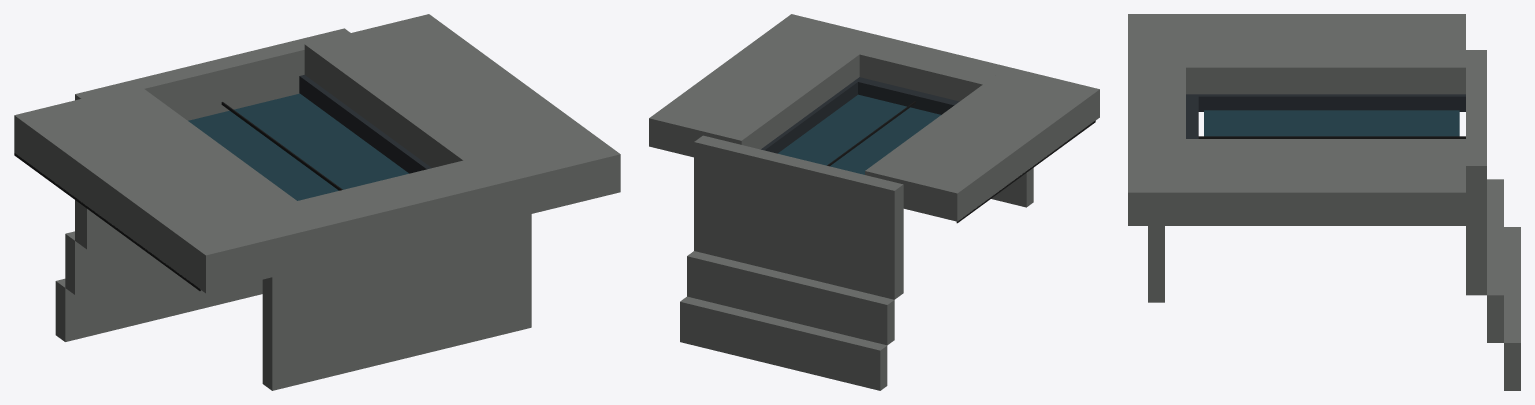
File: PanelEntrance_LOD0.obj
The picture shows the model from 3 angles, left to right: view 1: azimuth 30°, elevation 25°; view 2: azimuth 150°, elevation 25°; view 3: azimuth 270°, elevation 25°; orthographic projection. The views are drawn at different scales.
Parts seen in each view (by area): view 1: wall_left, wall_right, canopy, lintel, door, landing, step2, step1, door_frame_right, panel_seam_0, panel_seam_2; view 2: landing, wall_left, wall_right, step2, step1, door, lintel, door_frame_top, door_frame_right, canopy; view 3: wall_right, wall_left, door, landing, door_frame_left, lintel, step1, step2, canopy, panel_seam_2, door_frame_top.
Part boxes in pixels (x1,y1,x2,y2): wall_left: [14, 85, 330, 293]; wall_right: [304, 14, 620, 222]; canopy: [262, 214, 531, 390]; lintel: [298, 160, 496, 262]; door: [188, 93, 408, 200]; landing: [75, 28, 350, 249]; step2: [55, 271, 262, 341]; step1: [65, 231, 171, 294]; door_frame_right: [299, 75, 431, 173]; panel_seam_0: [14, 153, 200, 290]; panel_seam_2: [221, 102, 342, 190]; landing: [694, 135, 903, 299]; wall_left: [865, 66, 1099, 221]; wall_right: [649, 14, 883, 157]; step2: [680, 296, 887, 390]; step1: [687, 251, 894, 345]; door: [778, 94, 940, 174]; lintel: [859, 36, 1006, 101]; door_frame_top: [858, 78, 959, 114]; door_frame_right: [761, 77, 862, 153]; canopy: [991, 168, 1033, 207]; wall_right: [1128, 139, 1465, 225]; wall_left: [1128, 14, 1465, 94]; door: [1204, 110, 1459, 136]; landing: [1466, 50, 1486, 295]; door_frame_left: [1186, 94, 1465, 111]; lintel: [1128, 67, 1185, 138]; step1: [1487, 179, 1503, 342]; step2: [1504, 227, 1520, 390]; canopy: [1148, 226, 1164, 302]; panel_seam_2: [1198, 136, 1465, 138]; door_frame_top: [1186, 96, 1198, 138].
Size of the model in its own units: 4 by 2.4 by 3.72.
